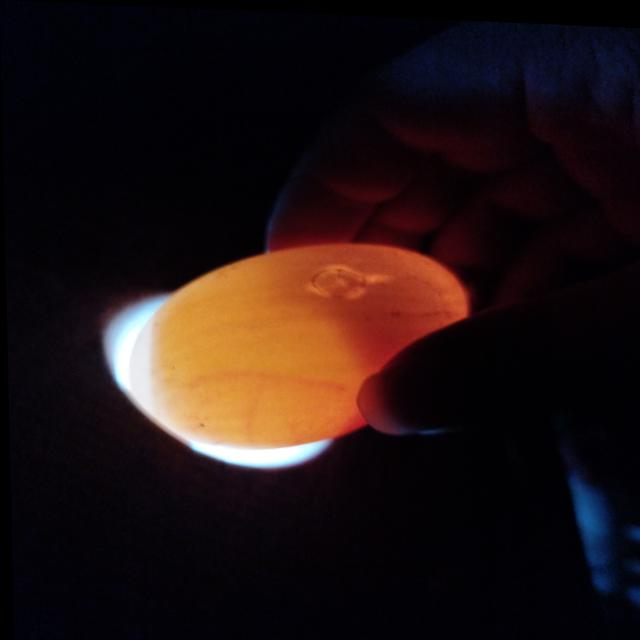Camara de Ar: (128, 318, 161, 421)
Rachadura: (312, 265, 364, 294)
